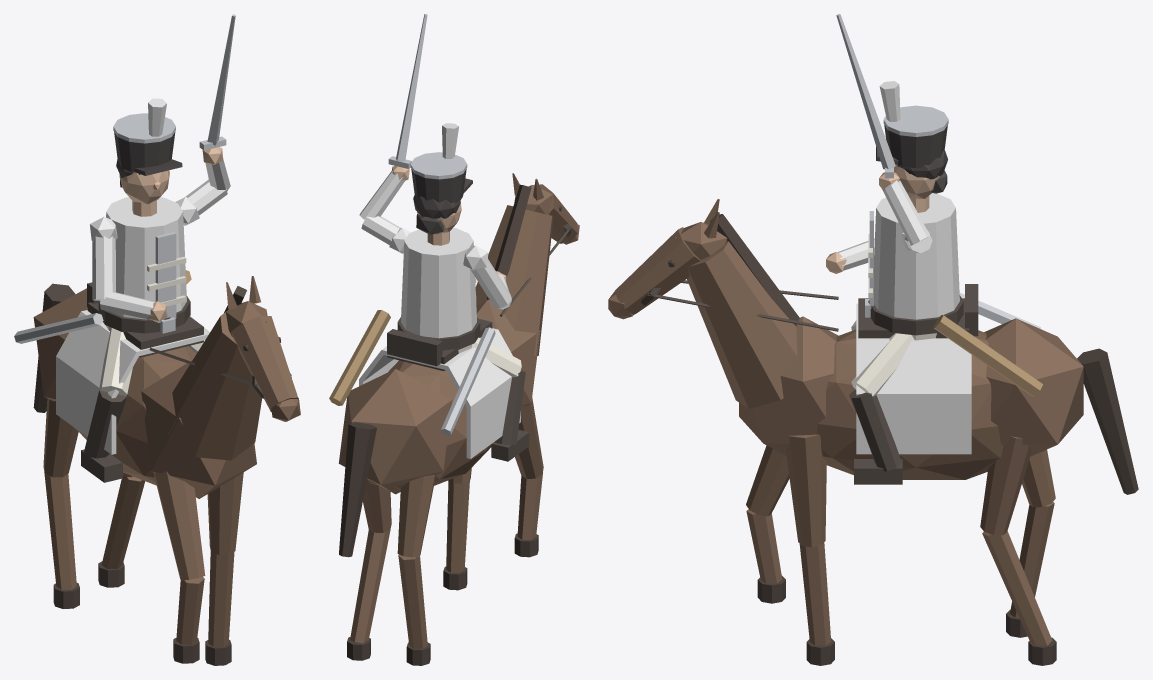
File: civ_unit_cavalry.glb
3 views of the same model, side by side, from view 1: azimuth 30°, elevation 25°; view 2: azimuth 150°, elevation 25°; view 3: azimuth 270°, elevation 25° (orthographic). The views are drawn at different scales.
Parts seen in each view (by area): view 1: civ_unit_cavalry; view 2: civ_unit_cavalry; view 3: civ_unit_cavalry.
Part boxes in pixels (left/top/right/bottom): civ_unit_cavalry: left=14, top=14, right=300, bottom=665; civ_unit_cavalry: left=329, top=14, right=579, bottom=665; civ_unit_cavalry: left=608, top=14, right=1138, bottom=665.
Size of the model in its own units: 0.8543 by 3.27 by 2.39.
